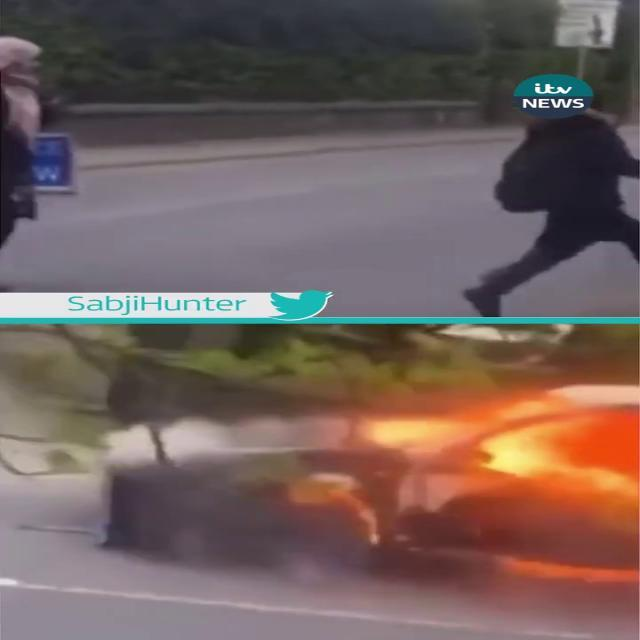Fire: (343, 384, 638, 534)
